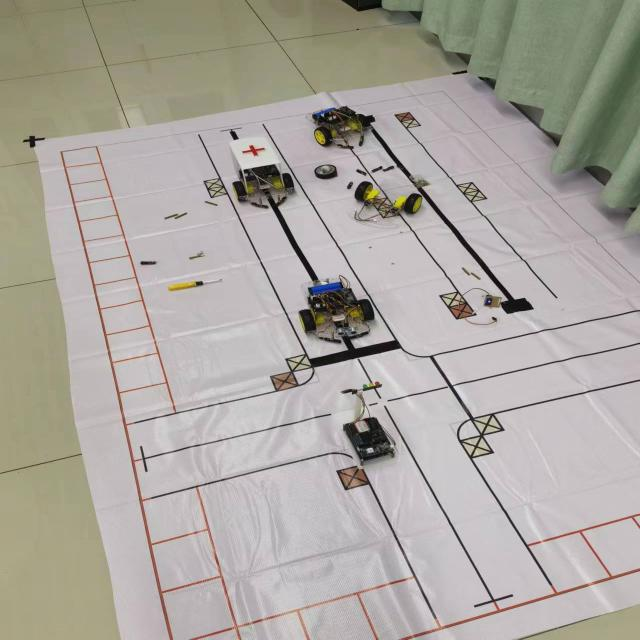RedCross: (239, 143, 268, 157)
